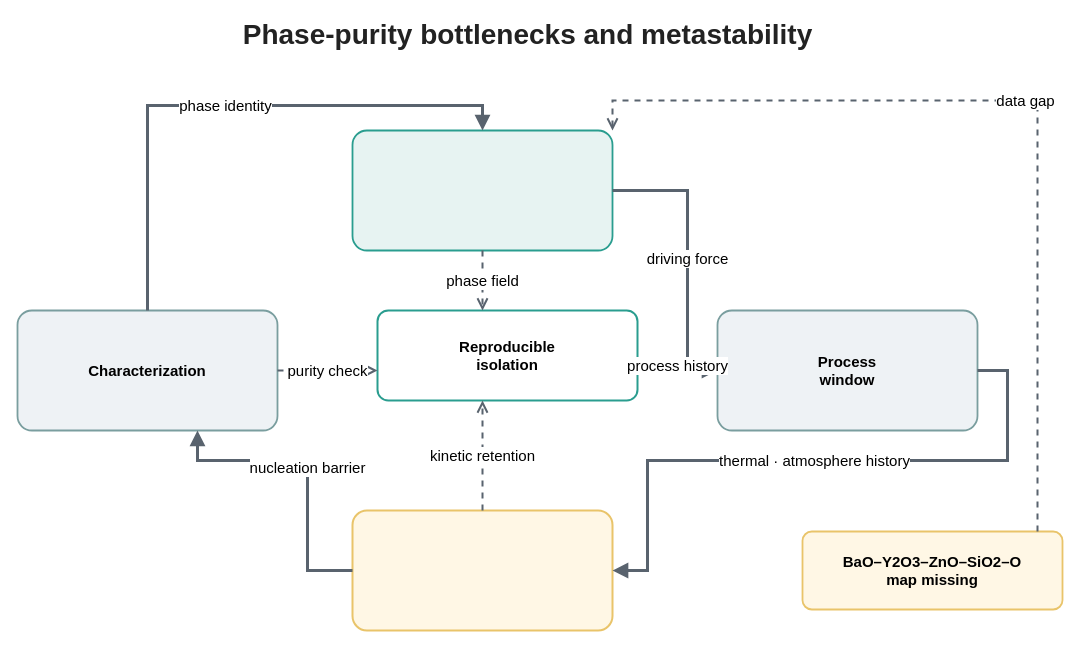
The diagram is 1081 pixels wide and 648 high, and some of its shapes have lost their labels. The centre of each missing label's shape, as x and y in pixels:
"Metastable pathways" goes at point (482, 570).
"Phase relations" goes at point (482, 190).
